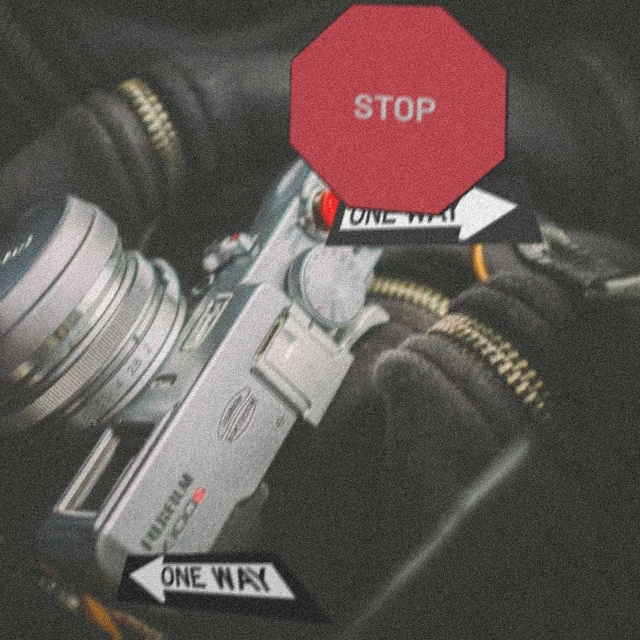ONE_WAY_ left: (114, 553, 335, 628)
ONE_WAY_ right: (323, 176, 544, 249)
STOP: (287, 5, 508, 219)
